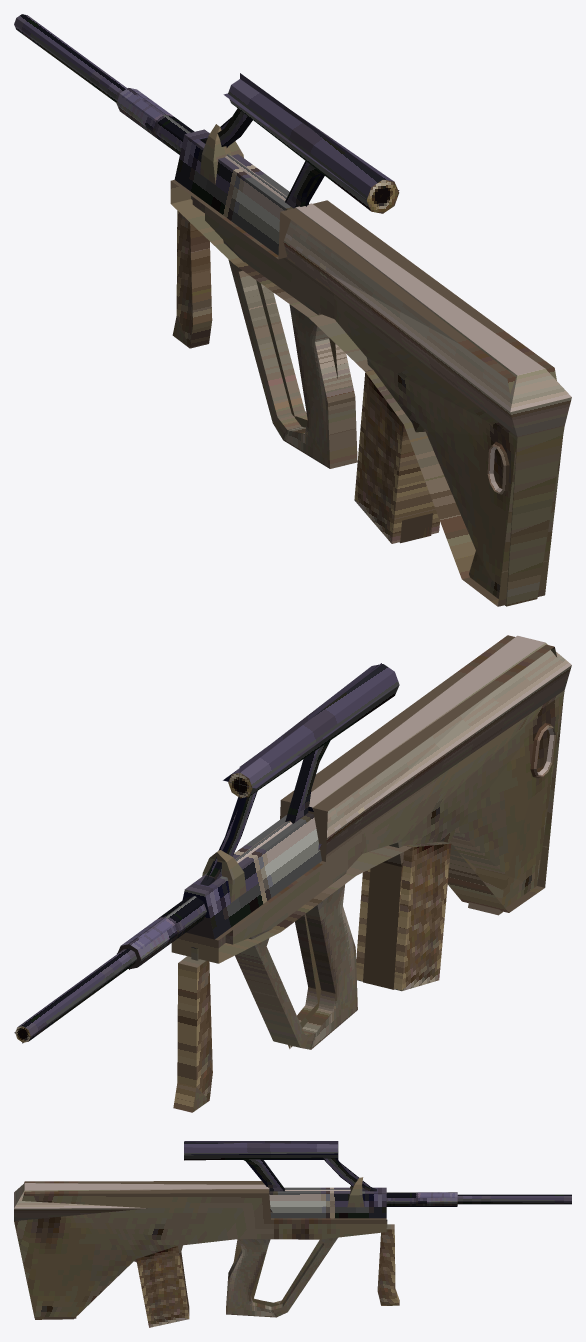
File: recovered_gun_steyr_aug9.glb
3 renders of one model, top to bottom at view 1: azimuth 30°, elevation 25°; view 2: azimuth 150°, elevation 25°; view 3: azimuth 270°, elevation 25°, orthographic. The views are drawn at different scales.
Visible parts, largest first — view 1: Gun_1513a0fe08f1; view 2: Gun_1513a0fe08f1; view 3: Gun_1513a0fe08f1.
Boxes of the visible parts, left/top/right/bottom form: Gun_1513a0fe08f1: left=14, top=14, right=571, bottom=606; Gun_1513a0fe08f1: left=14, top=635, right=571, bottom=1112; Gun_1513a0fe08f1: left=14, top=1141, right=571, bottom=1327.
Size of the model in its own units: 0.0479 by 0.2506 by 0.6988.
1 material, 1 textured.
